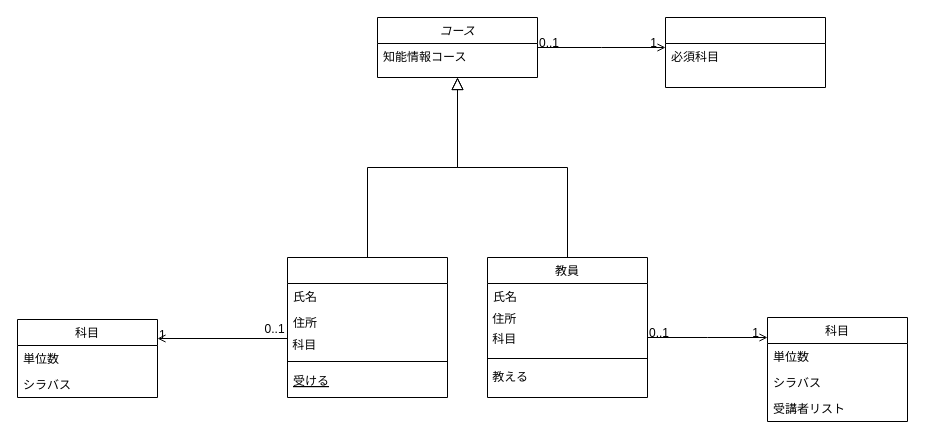
Some shapes in this 925 by 442 pixel diagram are drawn without their labels. The shapes that lost their labels are listed below. From the top down, each one's box as (x1, y1, x2, y2) in pixels, then its label:
(664, 16, 826, 88): 卒業要件
(286, 256, 448, 398): 生徒
